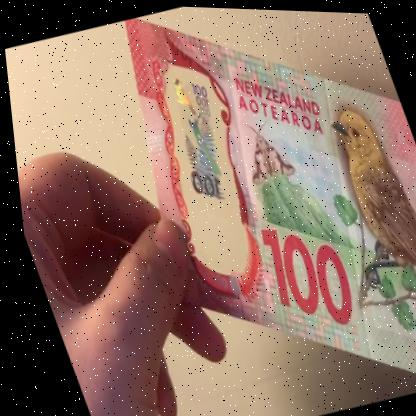100B: (149, 64, 253, 221)
